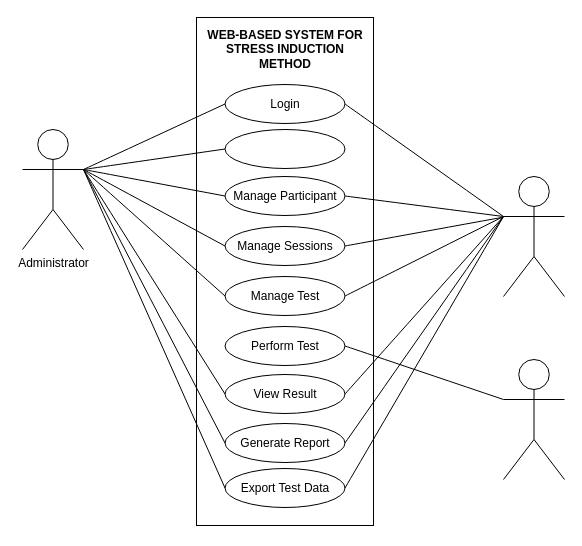
The diagram is 582 pixels wide and 546 high, and some of its shapes have lost their labels. The shapes that lost their labels are listed below. From the top down, each one's centre as x and y in pixels, then its label:
At (x=284, y=148): "Manage User Account".
At (x=533, y=236): "Researcher".
At (x=533, y=419): "Participant".
